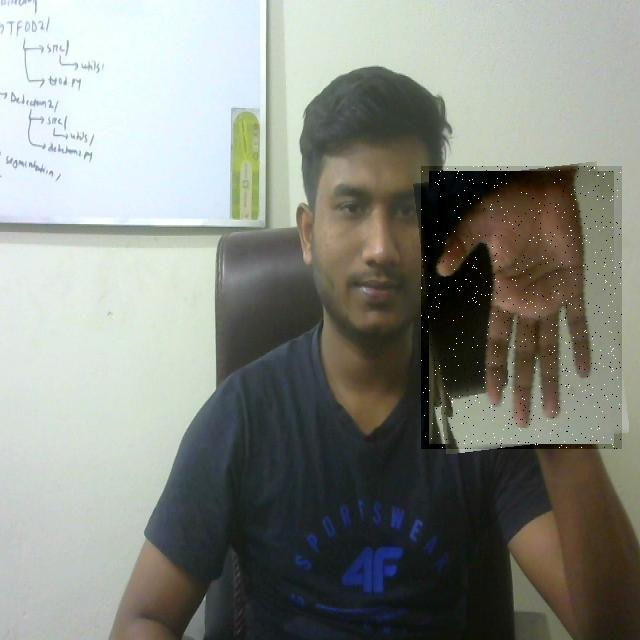Hello: (421, 166, 622, 449)
